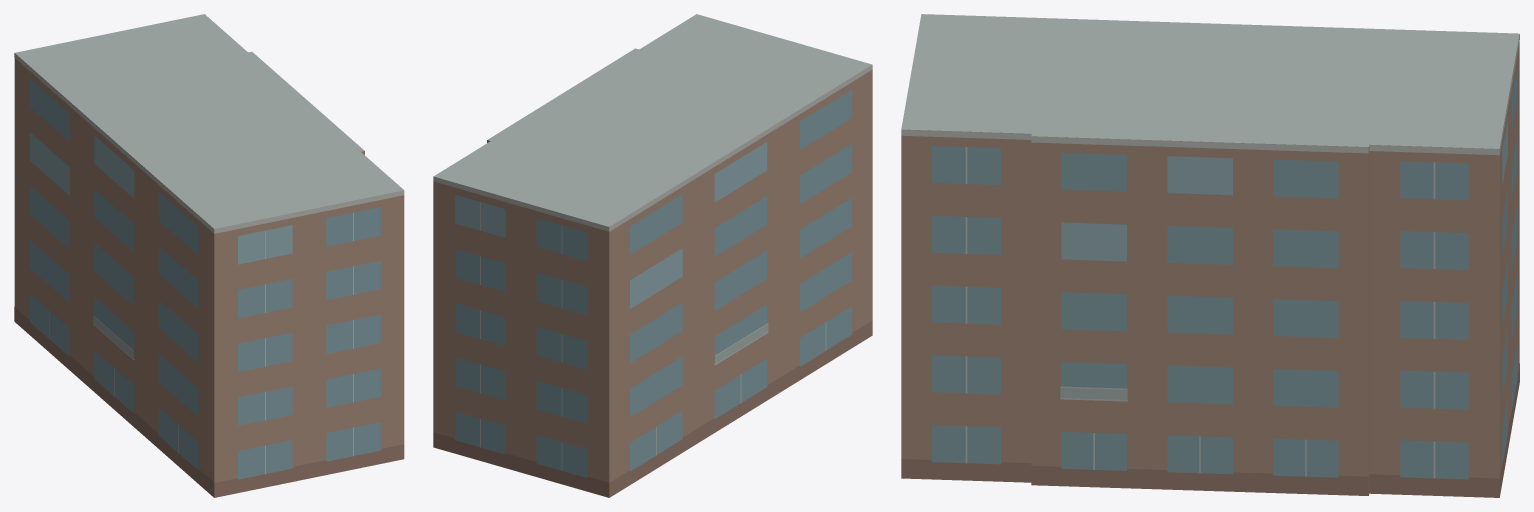
Rendered from survey-upis-32764489.glb.
The picture shows the model from 3 angles, left to right: view 1: azimuth 30°, elevation 25°; view 2: azimuth 150°, elevation 25°; view 3: azimuth 270°, elevation 25°; orthographic projection. The views are drawn at different scales.
Parts seen in each view (by area): view 1: survey-upis-32764489.tmp; view 2: survey-upis-32764489.tmp; view 3: survey-upis-32764489.tmp.
Part boxes in pixels (left/top/right/bottom): survey-upis-32764489.tmp: left=14, top=14, right=404, bottom=497; survey-upis-32764489.tmp: left=433, top=14, right=872, bottom=497; survey-upis-32764489.tmp: left=901, top=14, right=1519, bottom=497.
Bounding box in the file's own units: 11.29 × 13.6 × 21.86.
